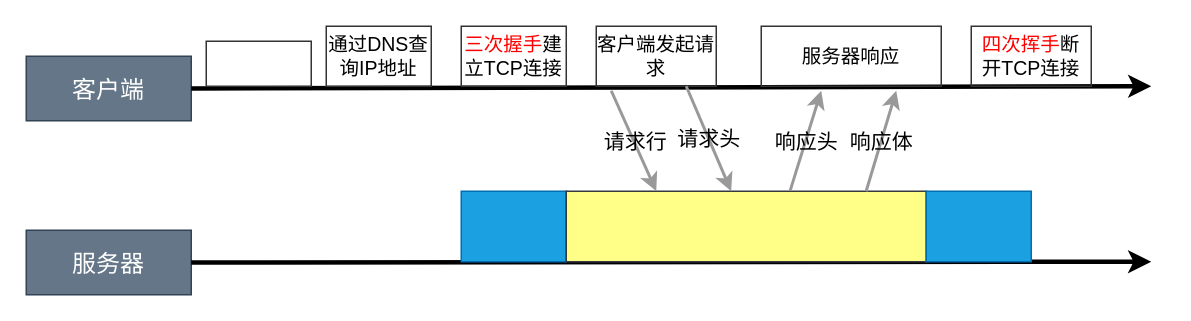
The diagram is 1191 pixels wide and 321 high, and some of its shapes have lost their labels. The shapes that lost their labels are listed below. From the top down, each one's centre as x and y in pixels, then its label:
At point (258, 63): "构建请求".
At point (745, 226): "服务器处理数据阶段".
